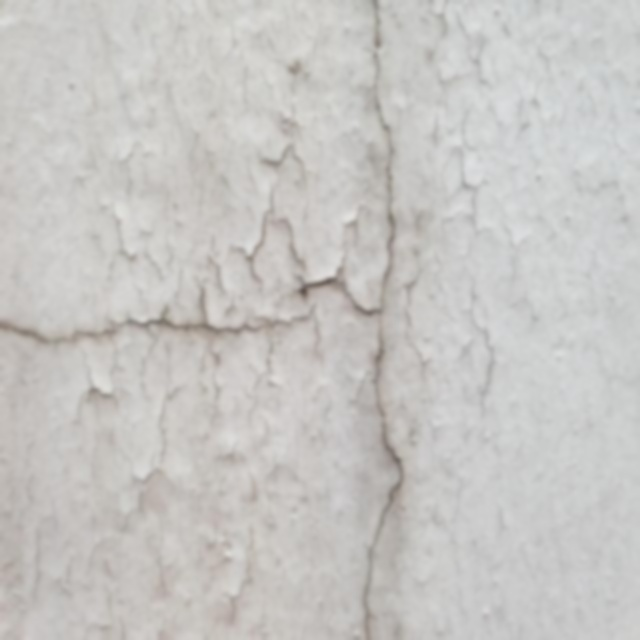SurfaceCrack: (295, 1, 446, 639)
